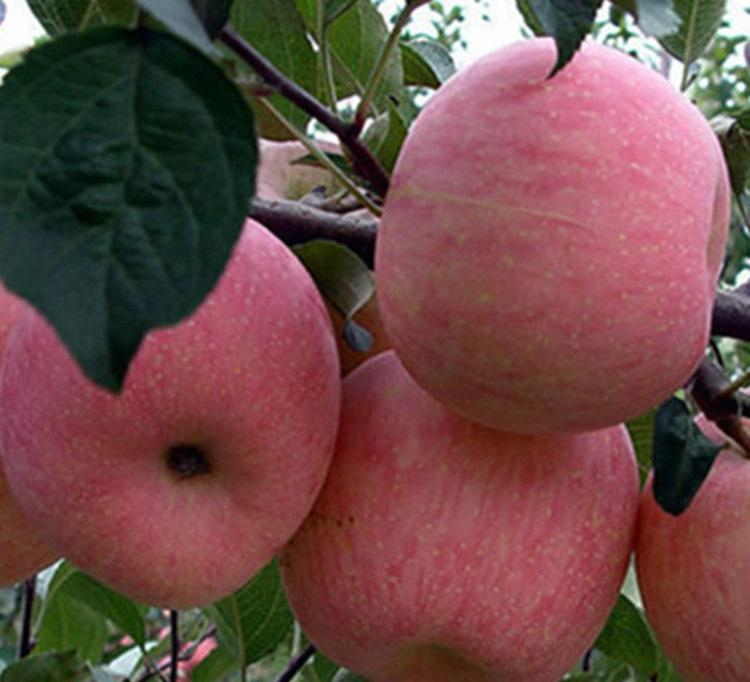apple: (377, 37, 730, 437), (3, 218, 344, 611), (278, 352, 641, 672)
